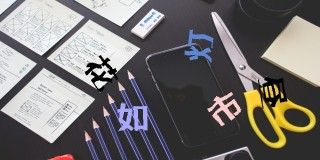如: (116, 102, 148, 132)
市: (207, 91, 242, 127)
昼: (258, 75, 288, 108)
灯: (184, 28, 213, 64)
花: (85, 54, 118, 92)
